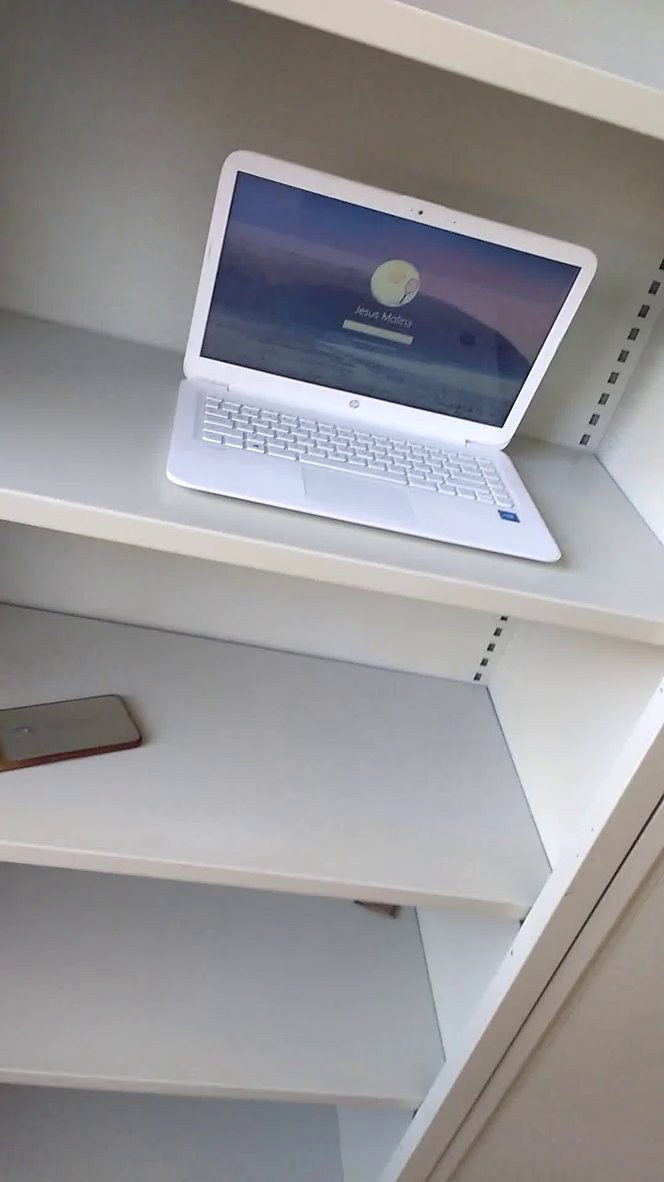laptop: (154, 129, 630, 586)
